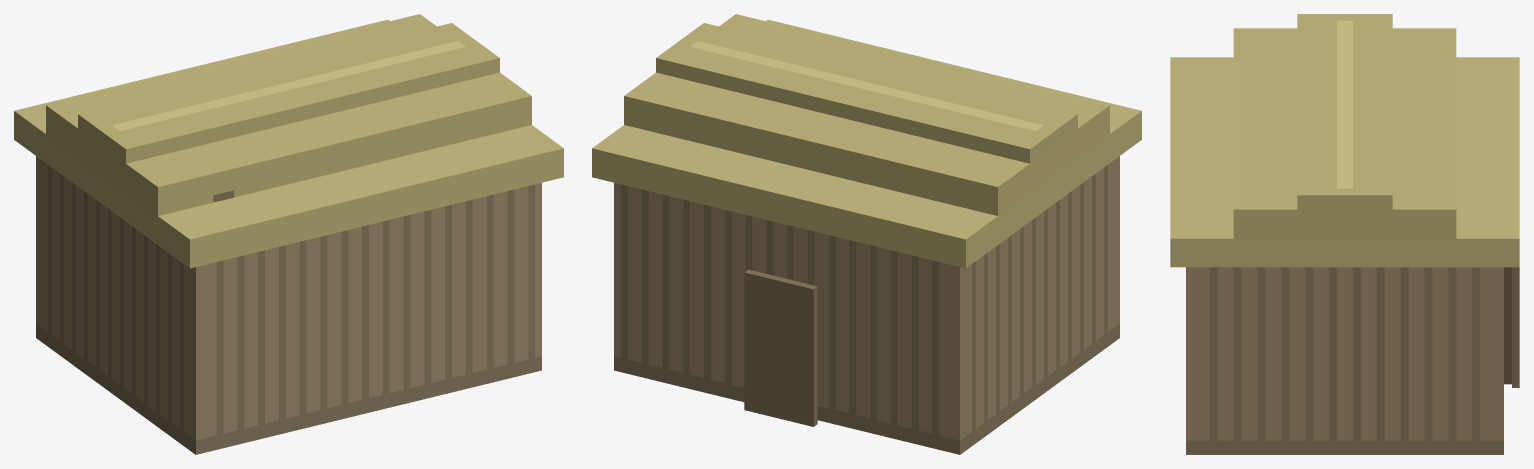
Rendered from carromato_mercader_04.glb.
3 renders of one model, left to right at view 1: azimuth 30°, elevation 25°; view 2: azimuth 150°, elevation 25°; view 3: azimuth 270°, elevation 25°, orthographic.
Visible parts, largest first — view 1: carromato_mercader_04; view 2: carromato_mercader_04; view 3: carromato_mercader_04.
Part boxes in pixels (<box>): carromato_mercader_04: <box>14,14,563,454</box>; carromato_mercader_04: <box>592,14,1141,454</box>; carromato_mercader_04: <box>1170,14,1519,454</box>.
Size of the model in its own units: 5.4 by 3.7 by 4.4.
